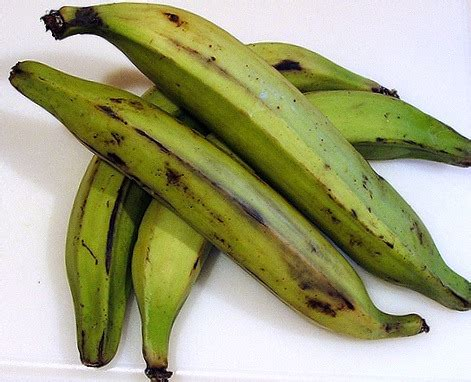banana: (52, 1, 470, 309), (9, 59, 388, 348), (65, 37, 391, 370), (129, 87, 471, 374)
